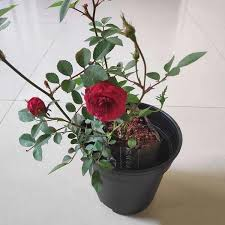rose: (81, 78, 129, 124), (25, 97, 48, 118)
